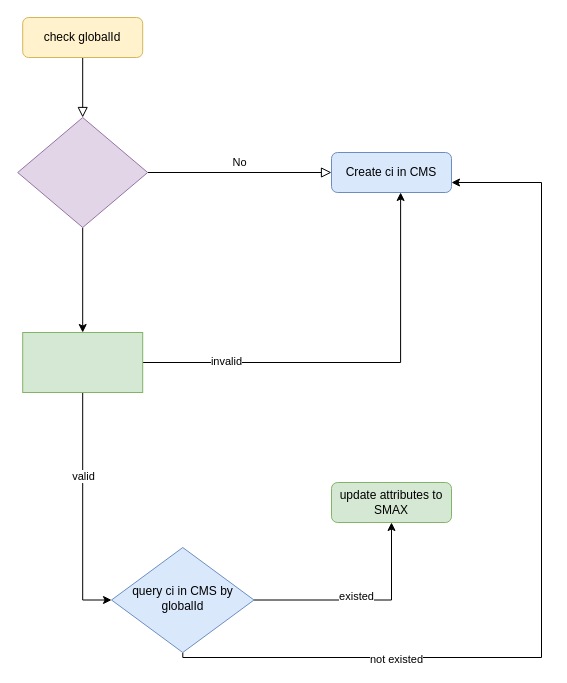
The diagram is 567 pixels wide and 683 high, and some of its shapes have lost their labels. Here are the shapes that lost their labels. From the top down, the centre of each, then its label:
At point 82,172: "is existed".
At point 82,362: "verify globalId".
